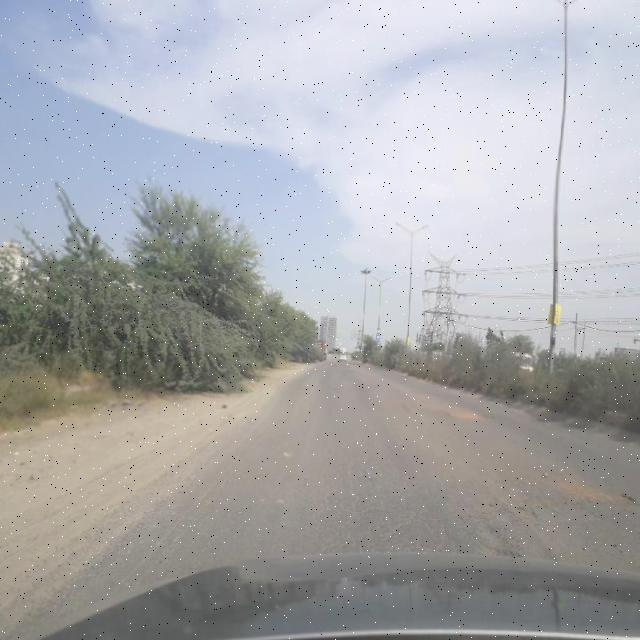D20: (311, 452, 516, 556)
D40: (549, 464, 639, 515), (434, 401, 492, 434)
